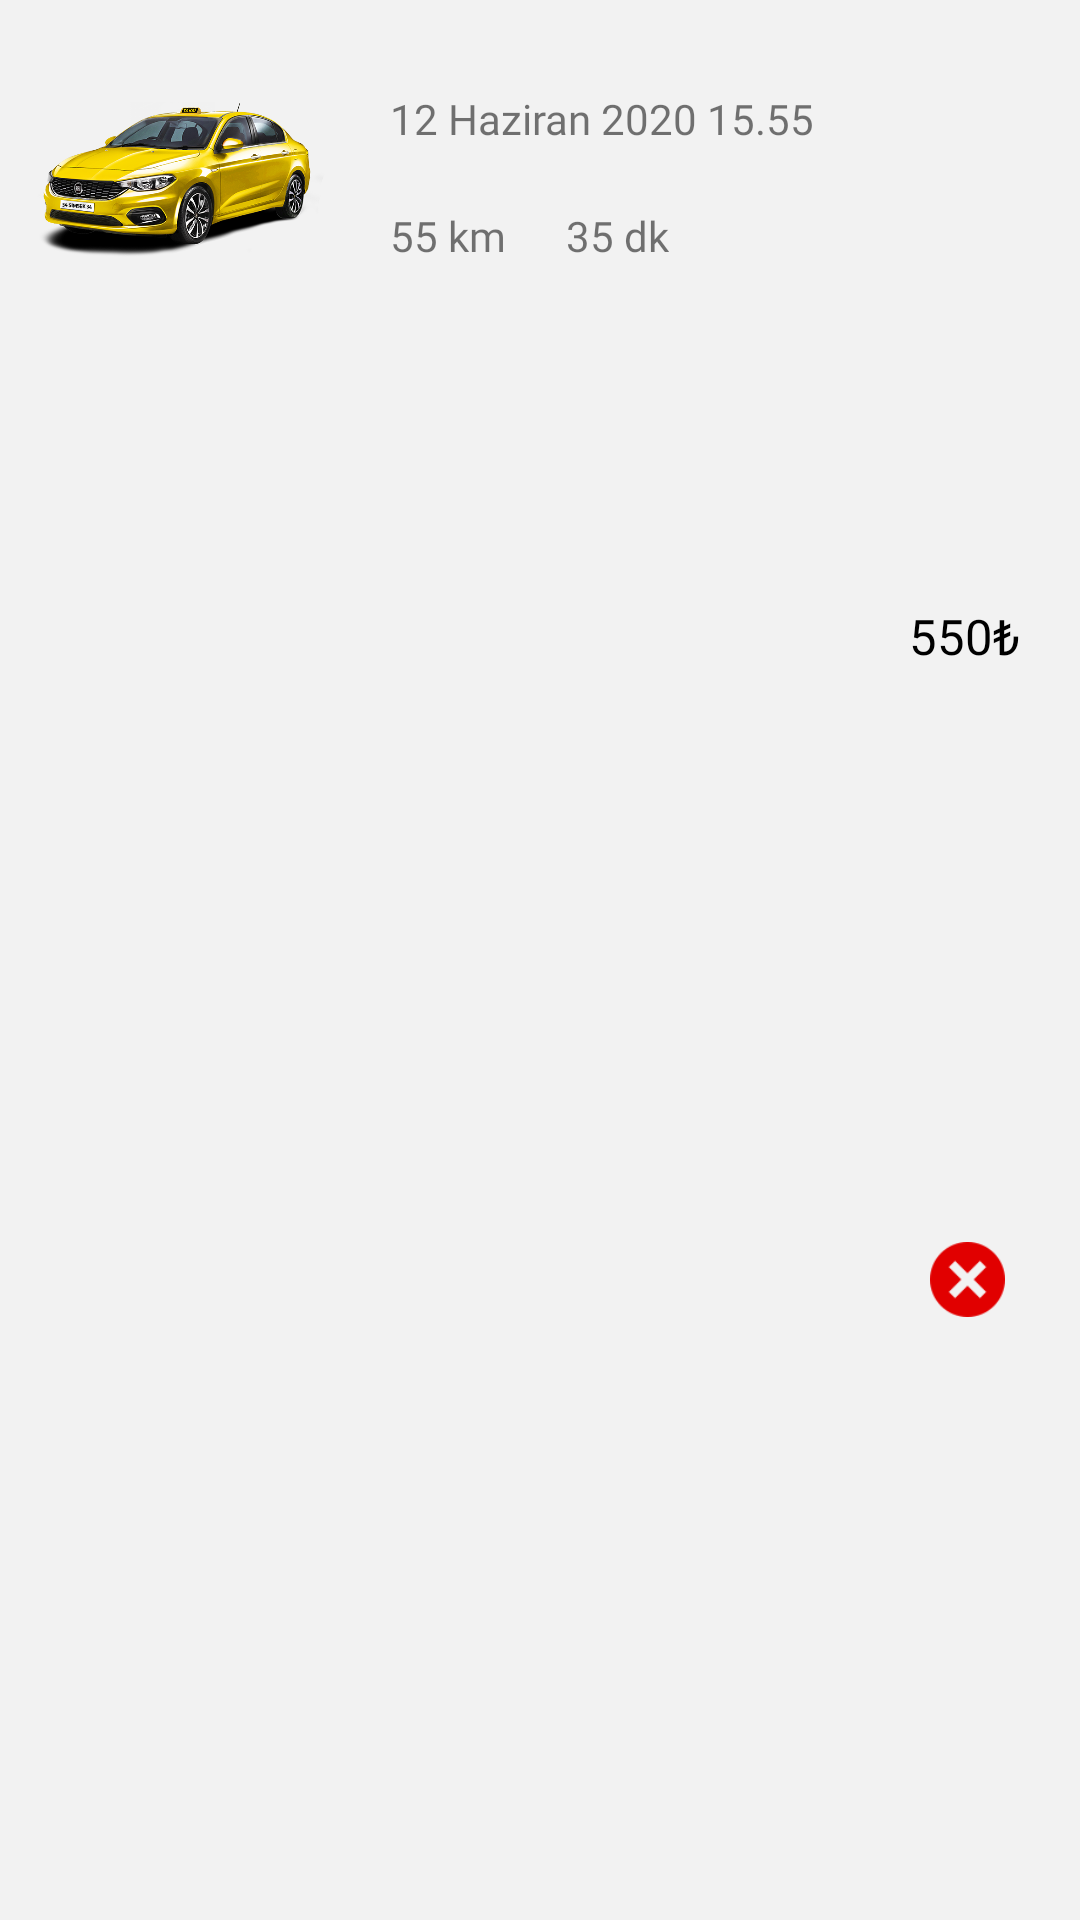

Locate icon controls on the screen. Image size 1080x1920, boxes as (x1, y1, x2, y2).
taxi: (43, 103, 311, 255)
